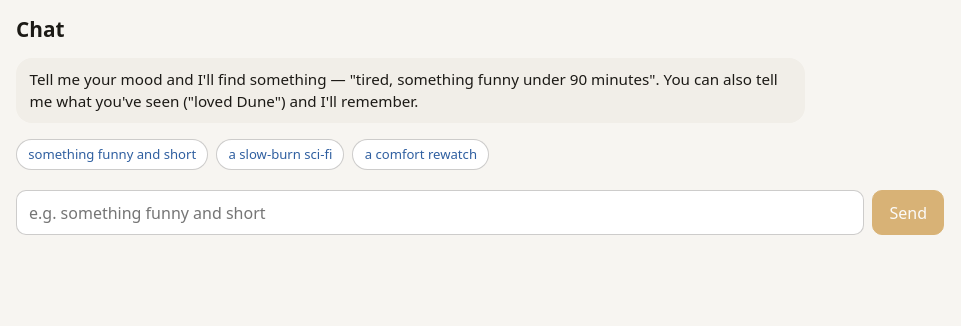
Chat write actions › shows an undoable action chip after a streamed write and reverses it on undo
Type "I saw Dune and loved it" into the field with test id "chat-input".
click(440, 213); type("I saw Dune and loved it")  # box left=16, top=190, right=864, bottom=235
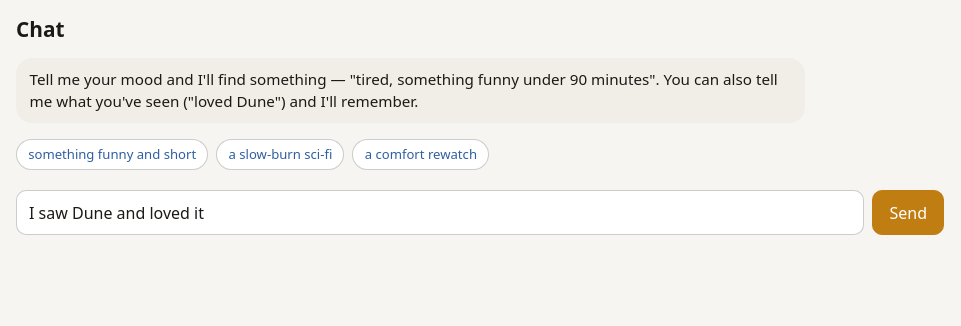
Click the button with test id "chat-send".
click(908, 213)  # box left=872, top=190, right=944, bottom=235
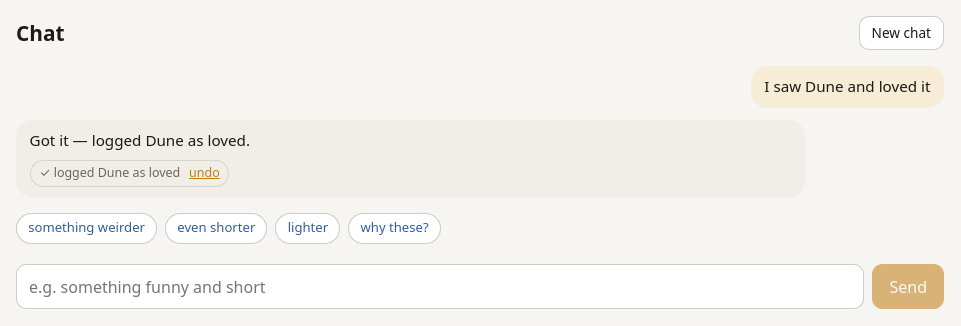
Expected: the element with test id "chat-action" shows "logged Dune as loved", left=54, top=164, right=180, bottom=181
Click the button with test id "chat-undo".
click(202, 173)  # box left=184, top=164, right=220, bottom=183
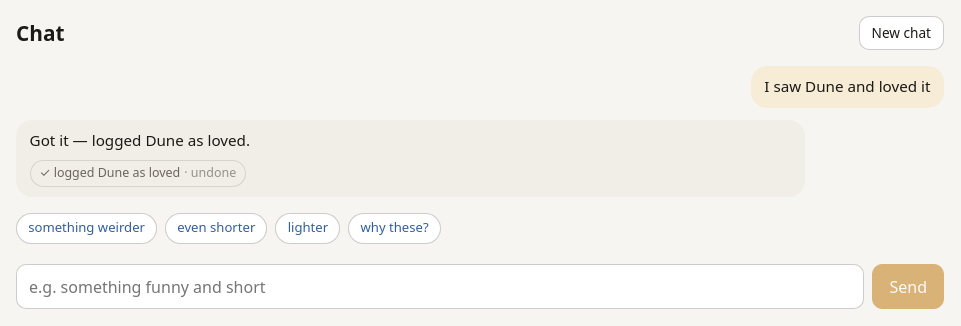
Expected: the text "· undone" is shown, left=184, top=164, right=236, bottom=183
